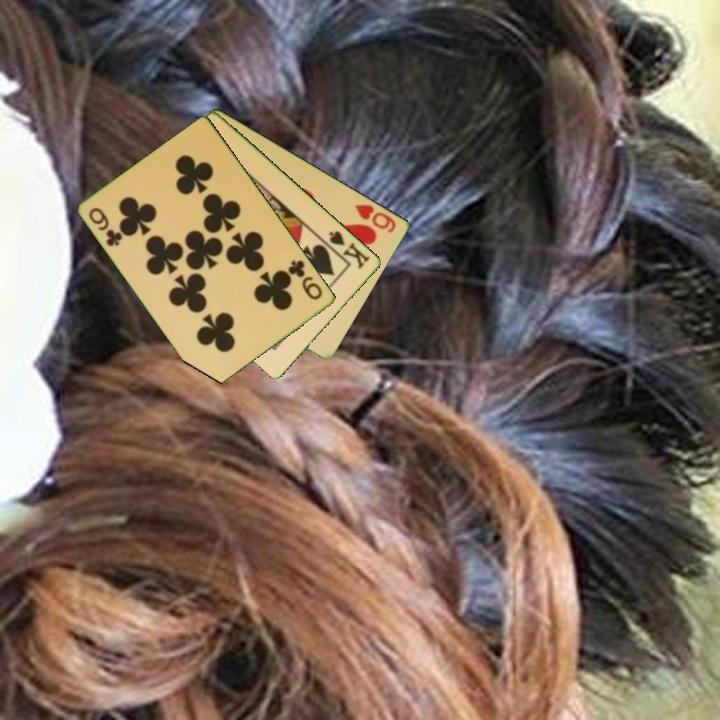6h: (352, 200, 399, 236)
9c: (285, 256, 326, 303), (85, 204, 126, 250)
Ks: (326, 227, 373, 272)
